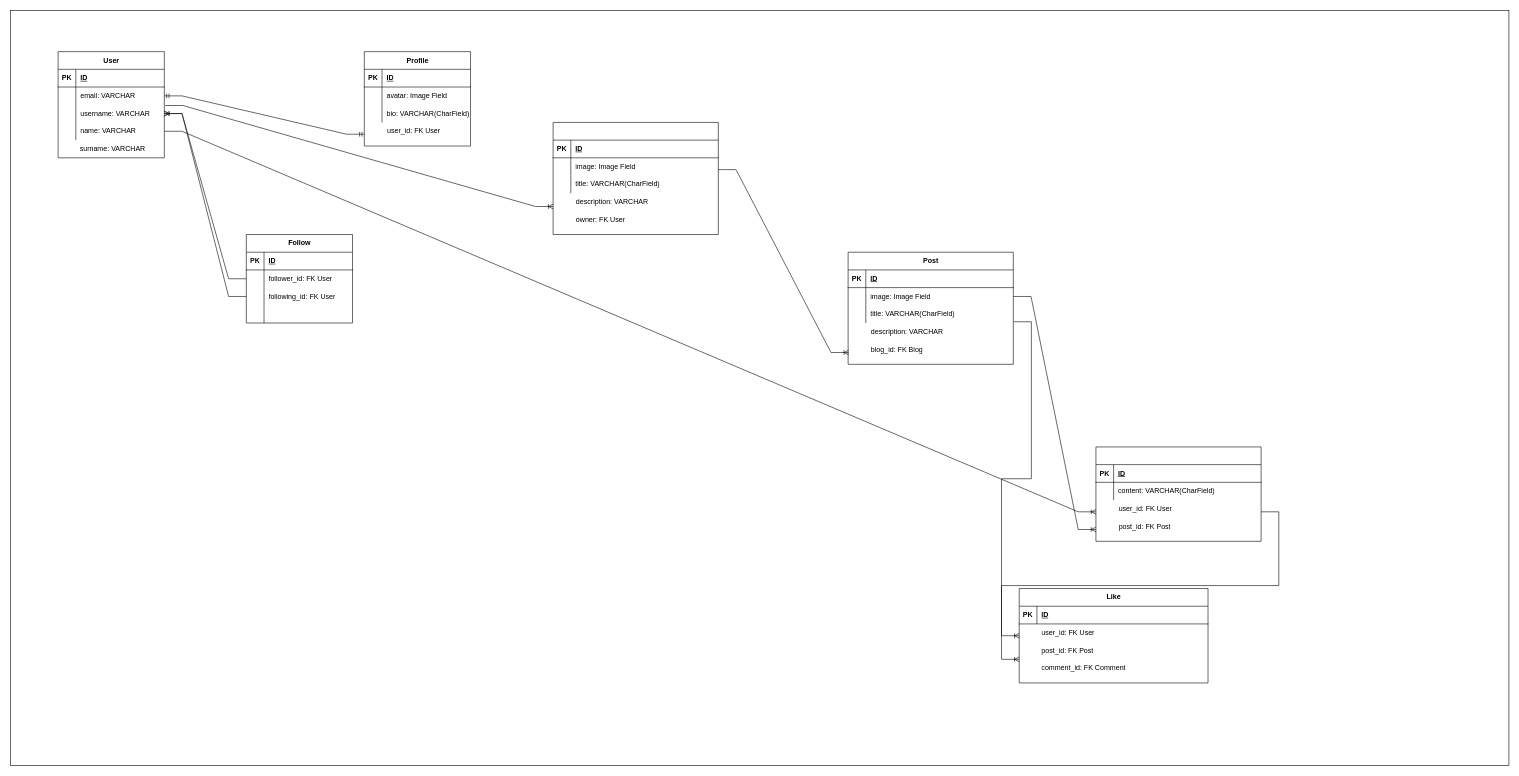
The diagram is 1519 pixels wide and 776 high, and some of its shapes have lost their labels. The shapes that lost their labels are listed below. From the top down, each one's box as (x1, y1, x2, y2) in pixels, then its label:
(553, 122, 718, 235): Blog
(1095, 446, 1261, 541): Comment
